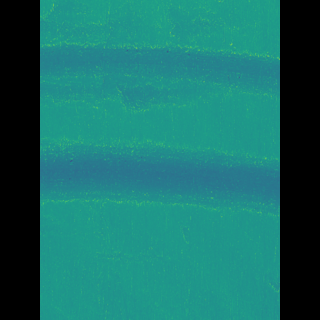Loch: (68, 140, 251, 216), (69, 41, 251, 105)
